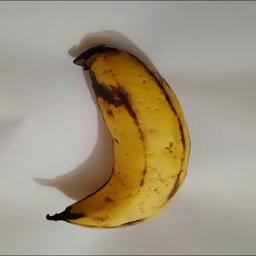Banana Semifresh: (32, 44, 195, 229)
